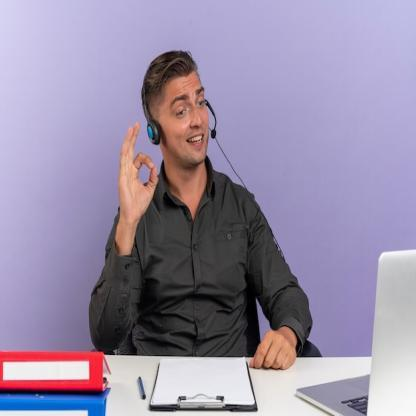ok: (116, 119, 160, 228)
